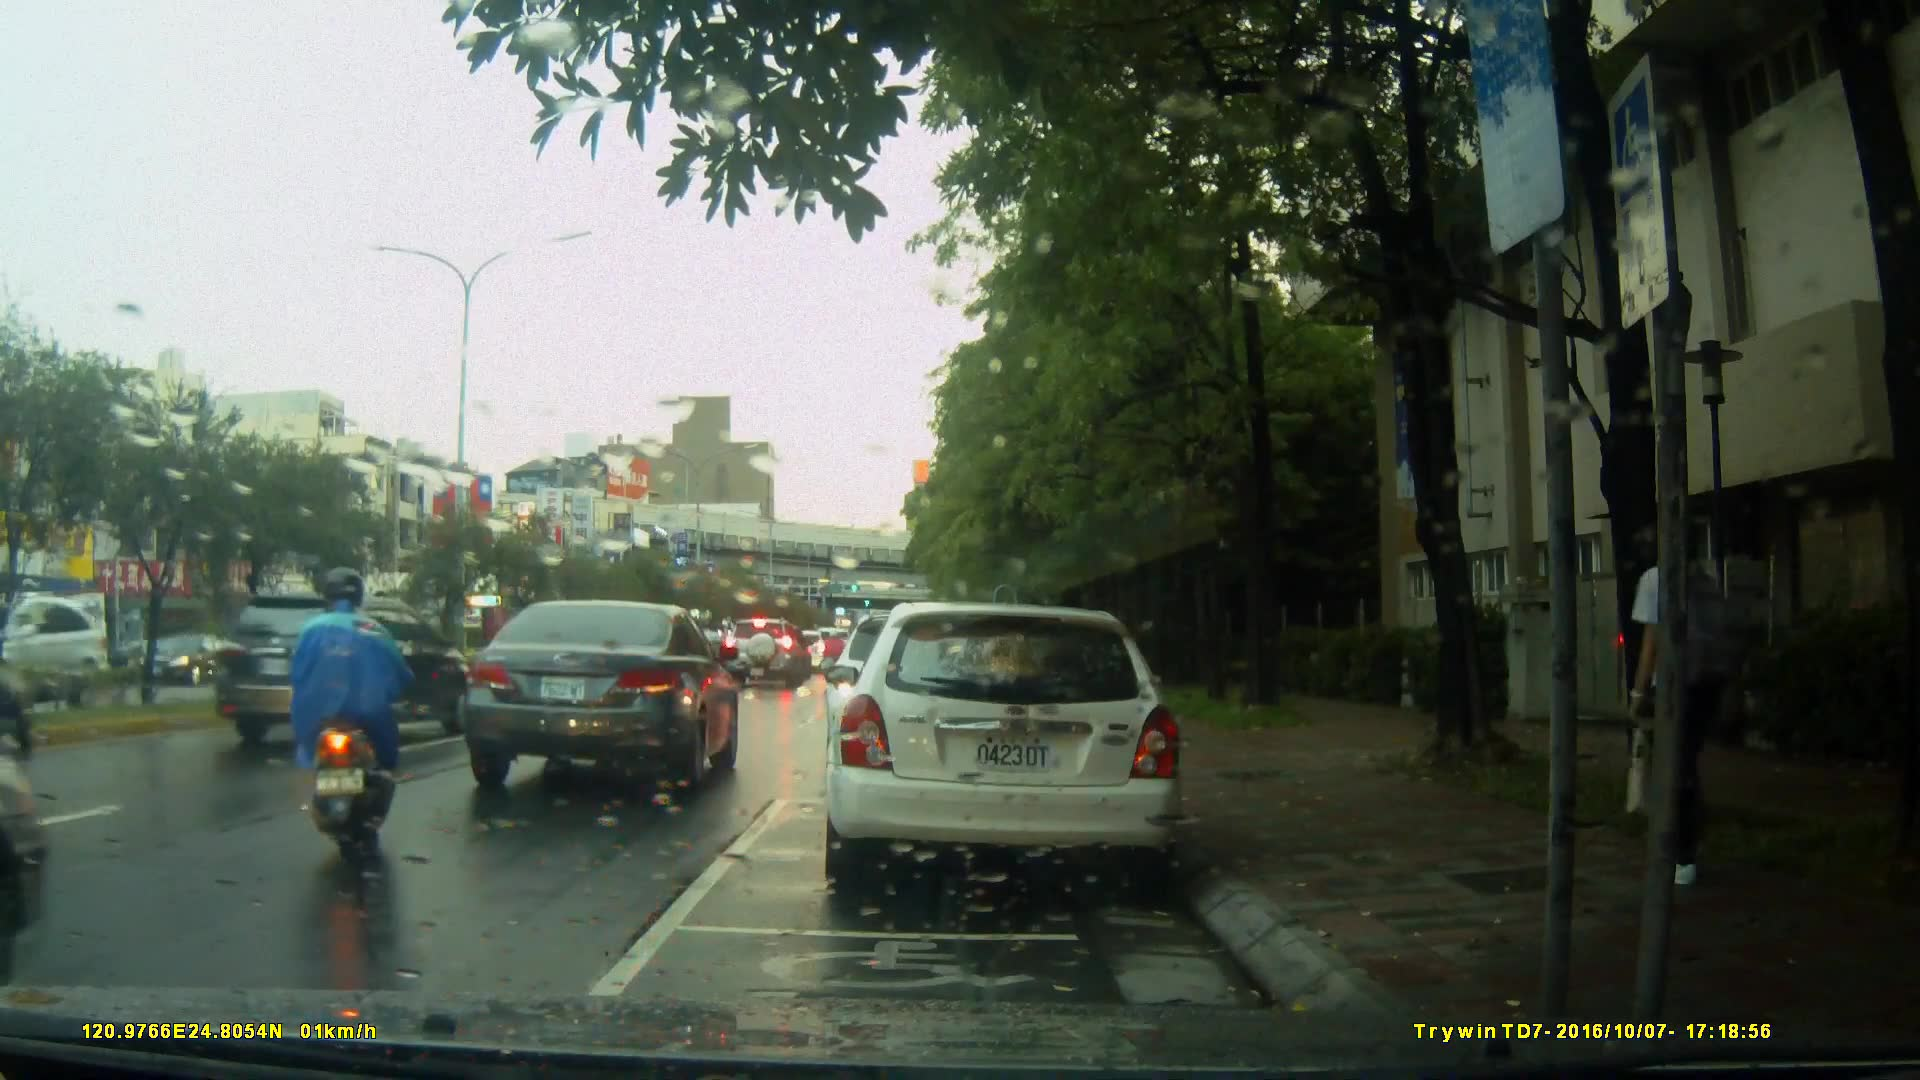pedestrian: (1601, 511, 1755, 888)
rider: (297, 564, 417, 860), (678, 608, 730, 709), (823, 625, 857, 698)
vehicle: (820, 602, 1188, 898), (463, 598, 744, 798), (209, 591, 477, 750), (6, 601, 123, 704), (727, 617, 811, 691)
